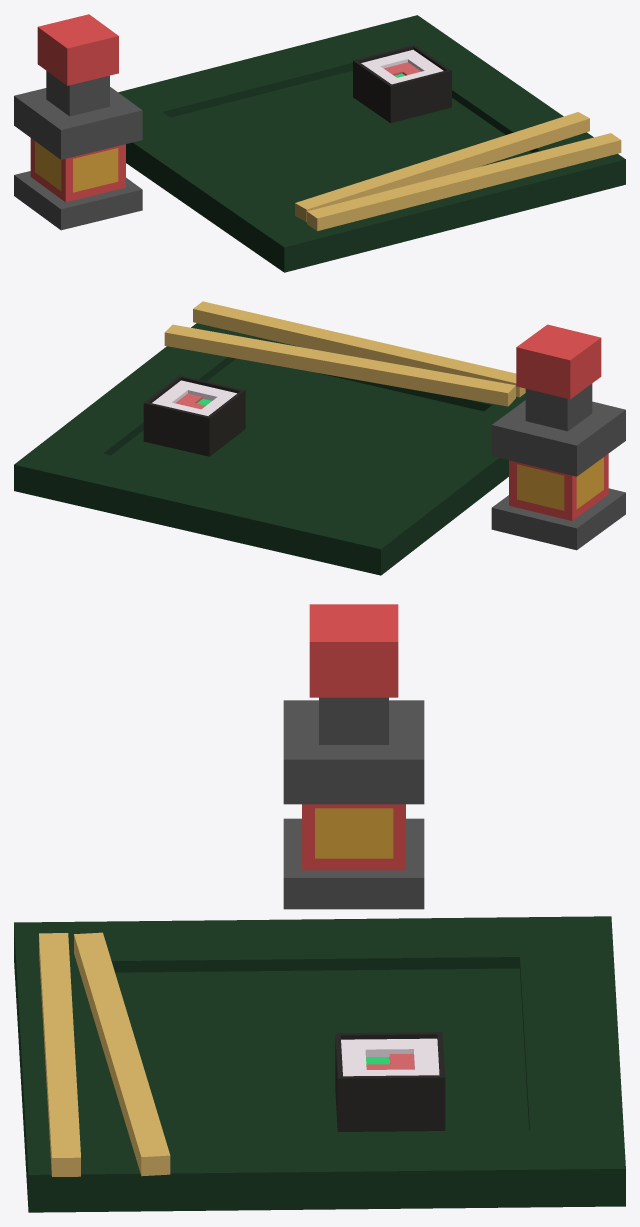
The model's file is sushi1.glb.
3 renders of one model, top to bottom at view 1: azimuth 30°, elevation 25°; view 2: azimuth 150°, elevation 25°; view 3: azimuth 270°, elevation 25°, orthographic. The views are drawn at different scales.
Parts seen in each view (by area): view 1: Plate, Plane.001, Cube, Cube.002, Sushi; view 2: Plate, Plane.001, Cube.002, Cube, Sushi; view 3: Plate, Plane.001, Sushi, Cube.002, Cube.
Boxes of the visible parts, <box> form: Plate: <box>118,15,625,272</box>; Plane.001: <box>14,14,142,230</box>; Cube: <box>307,133,621,231</box>; Cube.002: <box>295,112,589,222</box>; Sushi: <box>353,45,451,123</box>; Plate: <box>14,323,525,575</box>; Plane.001: <box>491,324,625,550</box>; Cube.002: <box>164,324,515,406</box>; Cube: <box>193,301,525,397</box>; Sushi: <box>143,375,245,456</box>; Plate: <box>14,916,625,1212</box>; Plane.001: <box>283,604,424,909</box>; Sushi: <box>335,1032,445,1131</box>; Cube.002: <box>74,932,170,1176</box>; Cube: <box>39,933,80,1176</box>.
Bounding box in the file's own units: 11.14 × 3.98 × 8.19.
